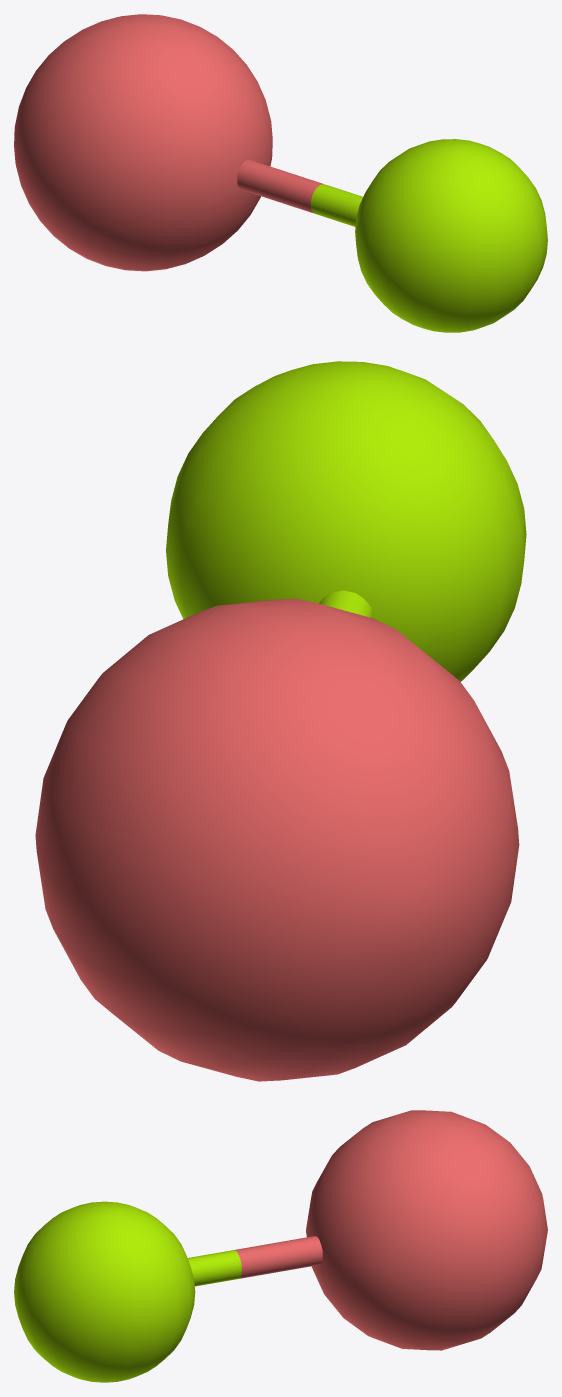
3 views of the same model, one above another, from view 1: azimuth 30°, elevation 25°; view 2: azimuth 150°, elevation 25°; view 3: azimuth 270°, elevation 25° (orthographic). The views are drawn at different scales.
Parts seen in each view (by area): view 1: BF; view 2: BF; view 3: BF.
Part boxes in pixels (x1=…): BF: x1=14, y1=14, x2=547, y2=332; BF: x1=35, y1=361, x2=526, y2=1081; BF: x1=14, y1=1110, x2=547, y2=1382.
Bounding box in the file's own units: 3.95 × 2.67 × 5.89.
